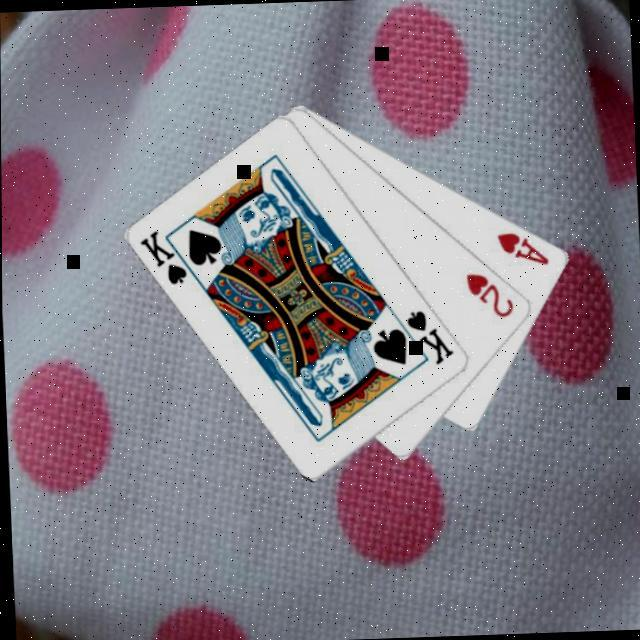2H: (461, 268, 516, 322)
AH: (492, 228, 551, 270)
KS: (136, 226, 200, 290), (402, 306, 456, 368)
